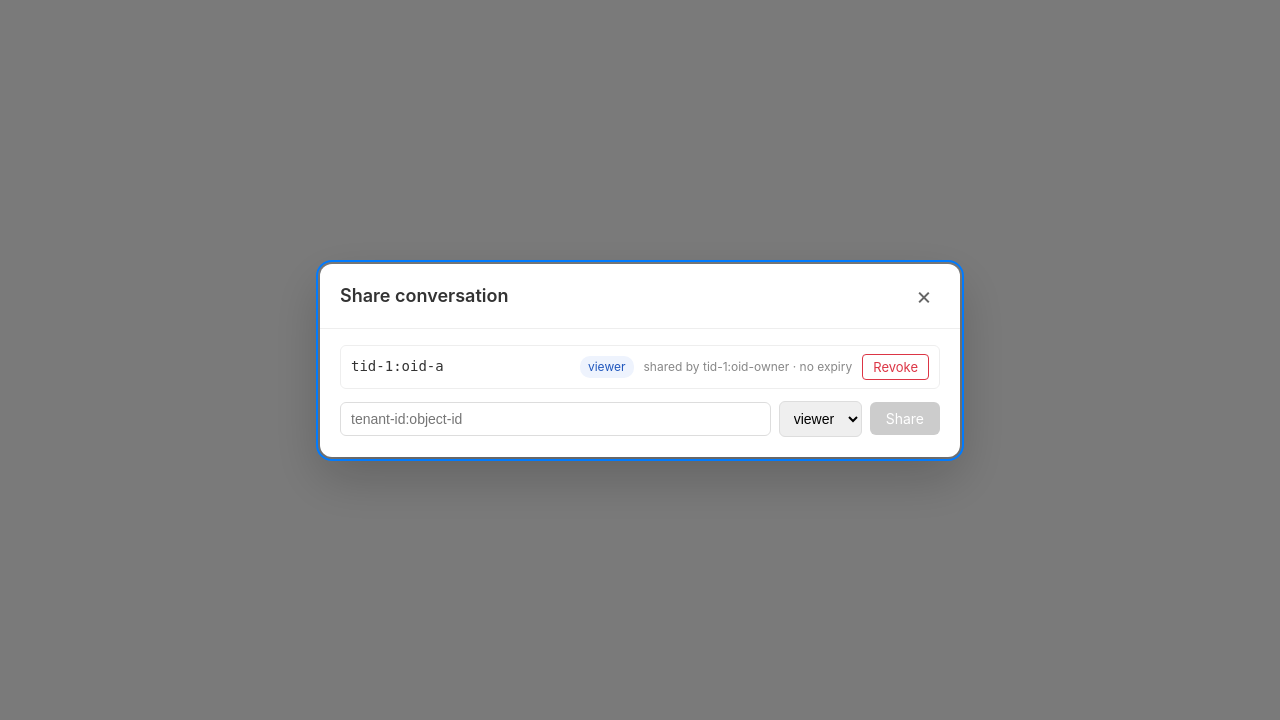
Test: ShareConversationModal withdraws mutation for every refusal that will always fail › withdraws the controls after admin_may_not_reshare
Expected: the button with test id "share-add-button" is shown, x1=870 y1=402 x2=940 y2=435
Type "tid-1:oid-b" into the field with test id "share-subject-input" at x=555, y=418, box x1=340 y1=402 x2=771 y2=436
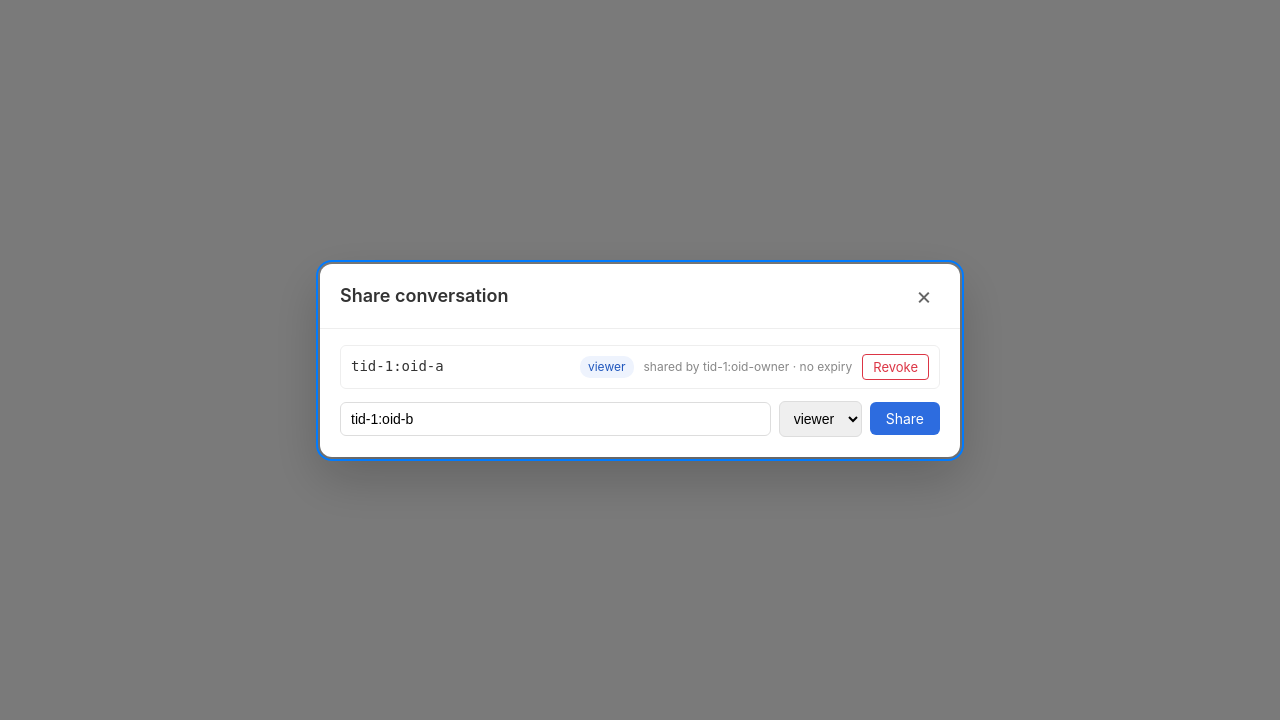
Click the button with test id "share-add-button" at x=905, y=418, box x1=870 y1=402 x2=940 y2=435
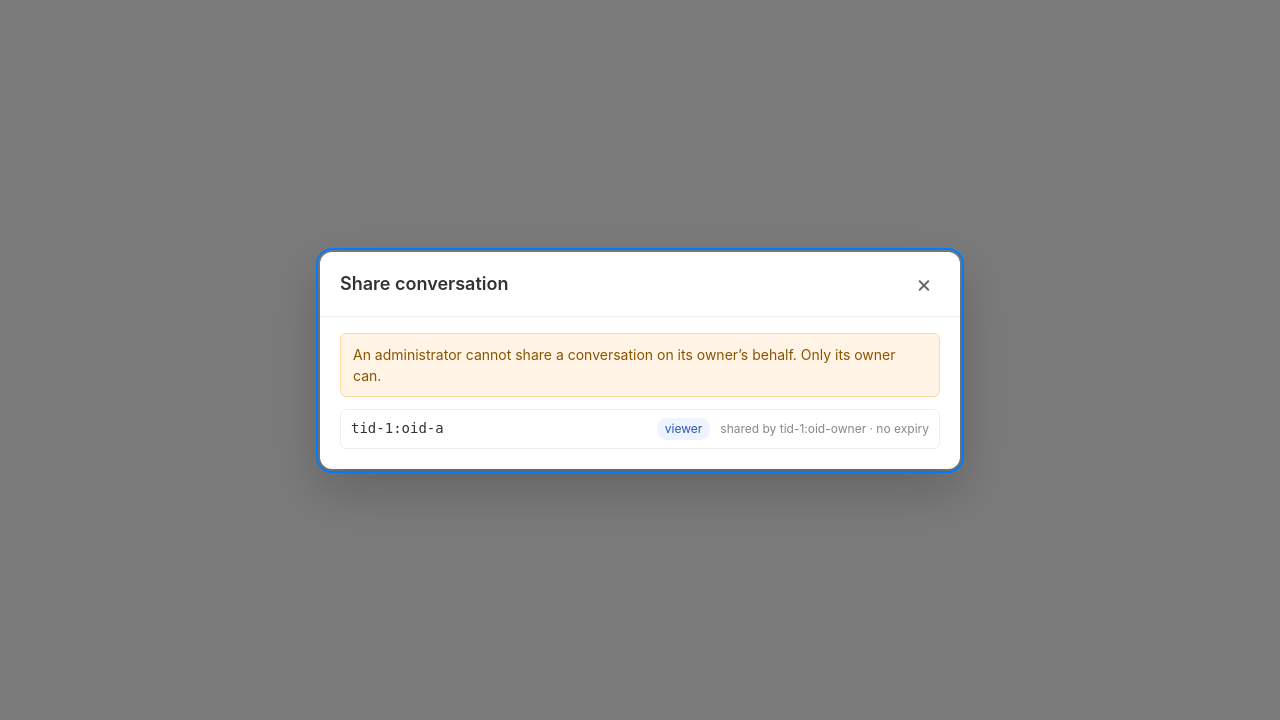
Expected: the list item with test id "share-row-tid-1:oid-a" is shown, x1=340 y1=408 x2=940 y2=448
Now the text with test id "share-refusal" is shown, box x1=340 y1=332 x2=940 y2=396
Now the text with test id "share-refusal" shows "administrator", box x1=353 y1=346 x2=896 y2=384
